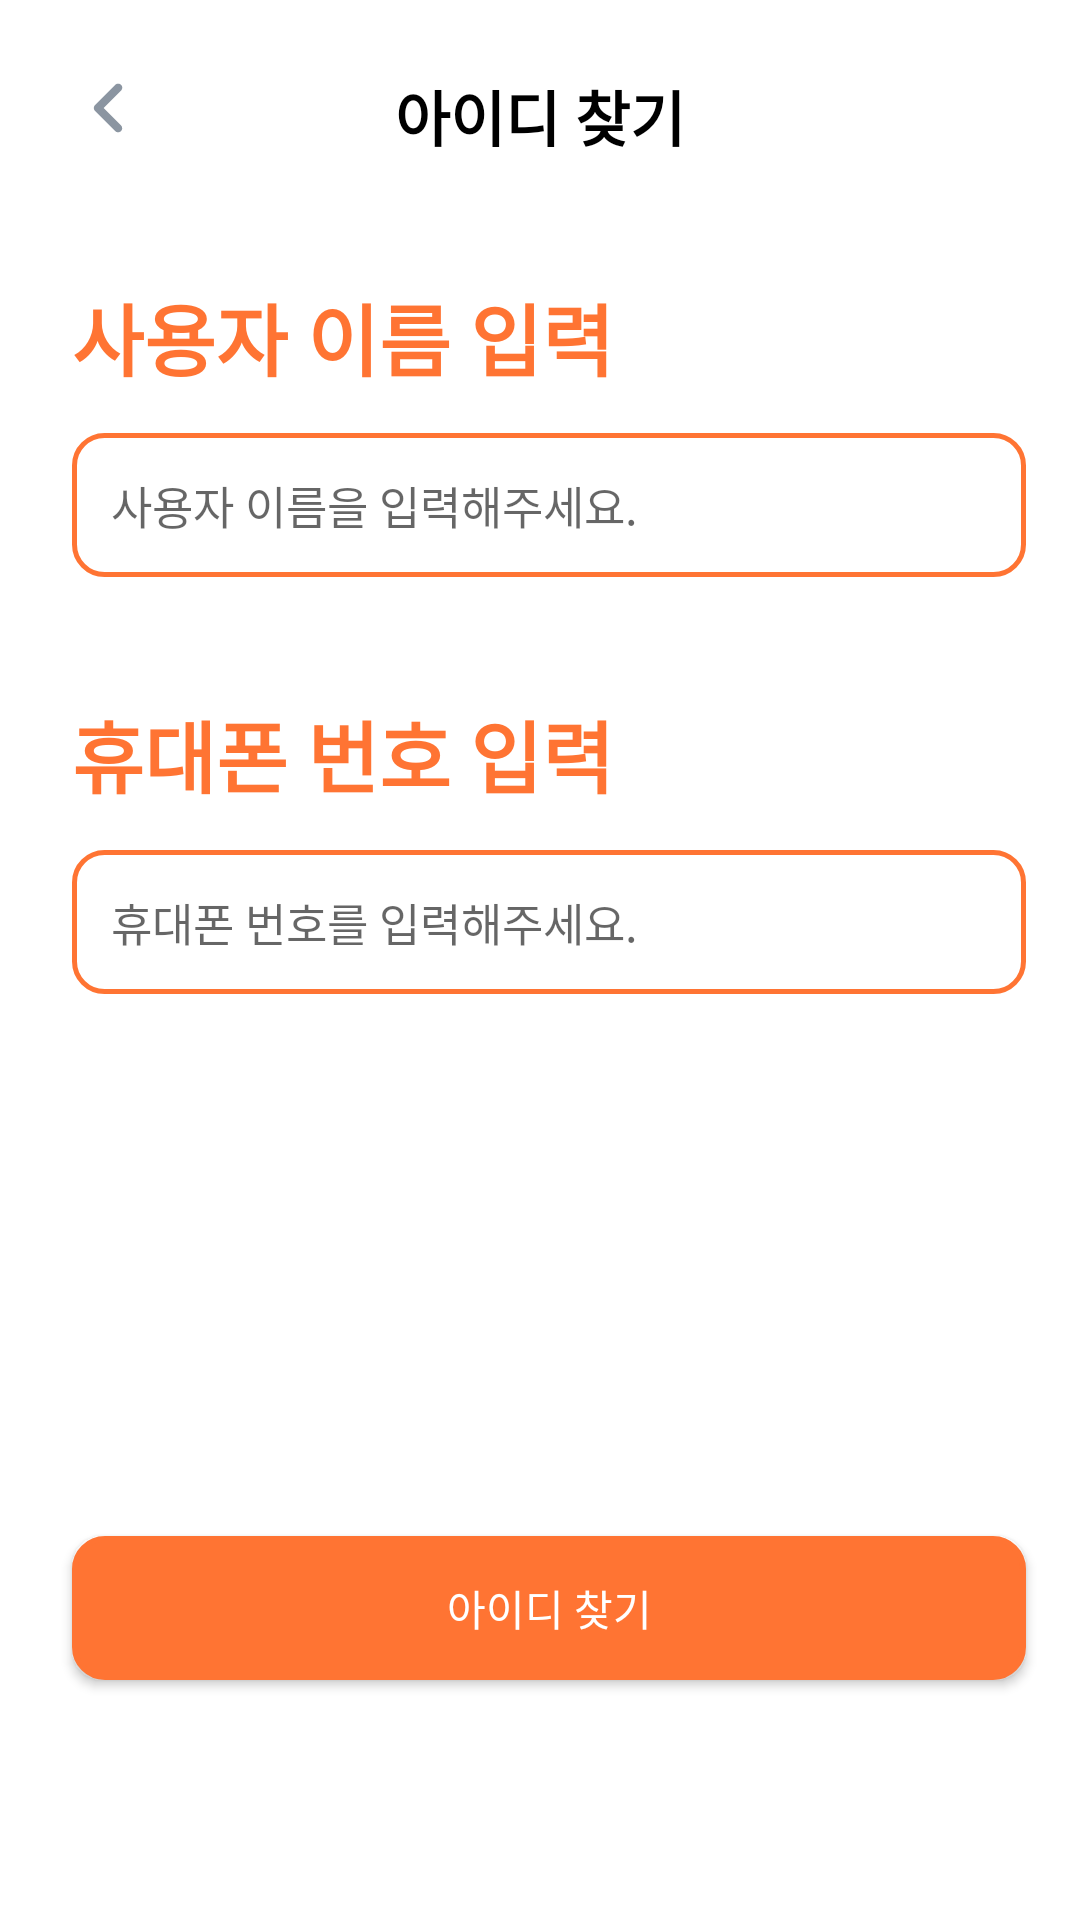

Named icons in this screenshot (1080x1920) and their centers, (x=x, y=y):
arrow left mono: (x=108, y=108)
